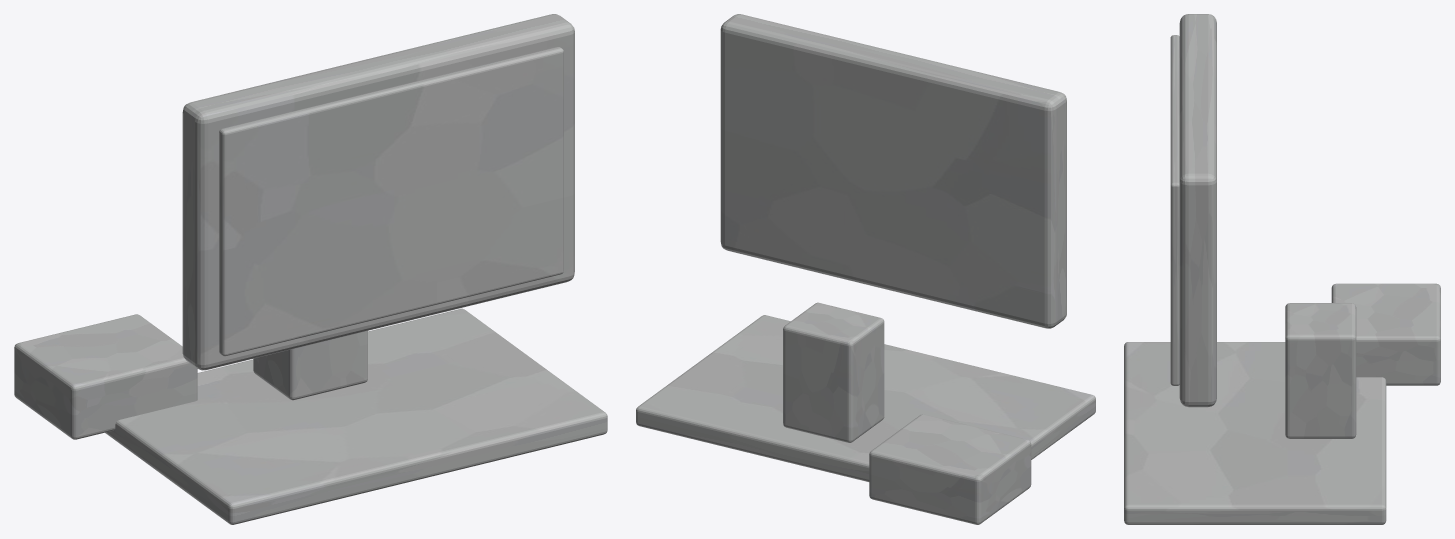
File: ModernKioskPOS.fbx
The picture shows the model from 3 angles, left to right: view 1: azimuth 30°, elevation 25°; view 2: azimuth 150°, elevation 25°; view 3: azimuth 270°, elevation 25°; orthographic projection. The views are drawn at different scales.
Parts seen in each view (by area): view 1: ModernKioskPOS; view 2: ModernKioskPOS; view 3: ModernKioskPOS.
Part boxes in pixels (x1,y1,x2,y2): ModernKioskPOS: [14, 14, 607, 524]; ModernKioskPOS: [636, 14, 1095, 524]; ModernKioskPOS: [1124, 14, 1440, 524].
Size of the model in its own units: 0.4 by 0.3525 by 0.29.
